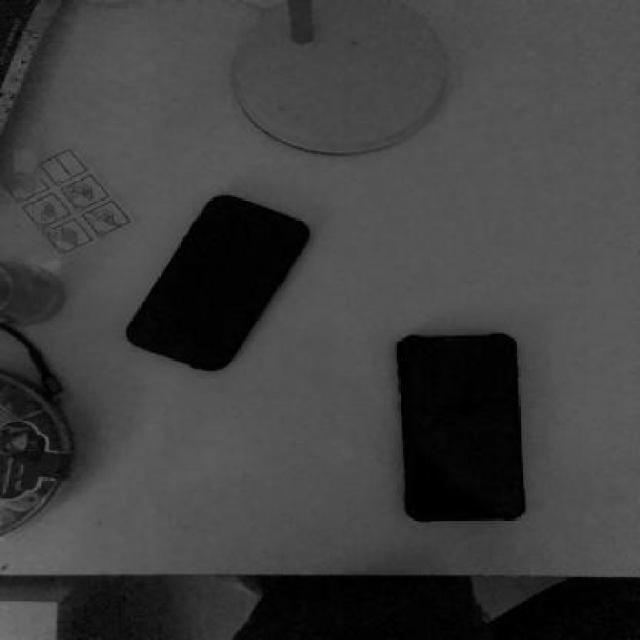fake: (122, 194, 312, 374), (398, 333, 532, 519)
